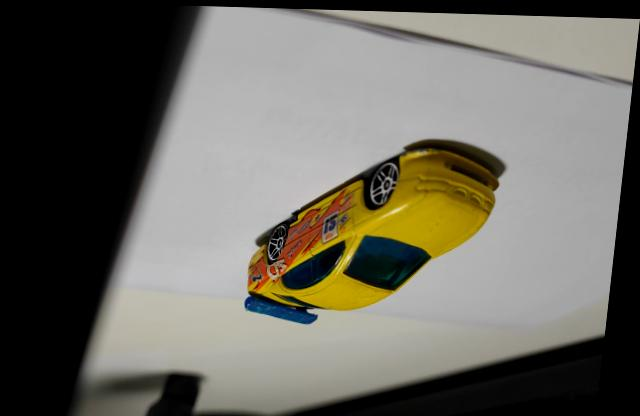02_OZSOME: (250, 134, 510, 322)
